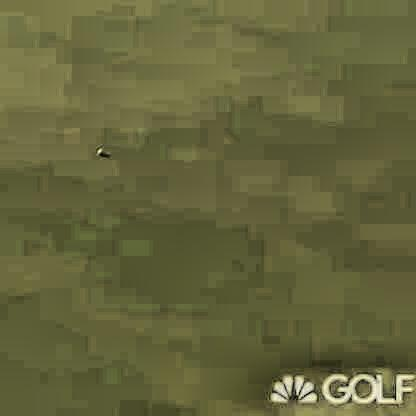golfball: (94, 144, 104, 154)
